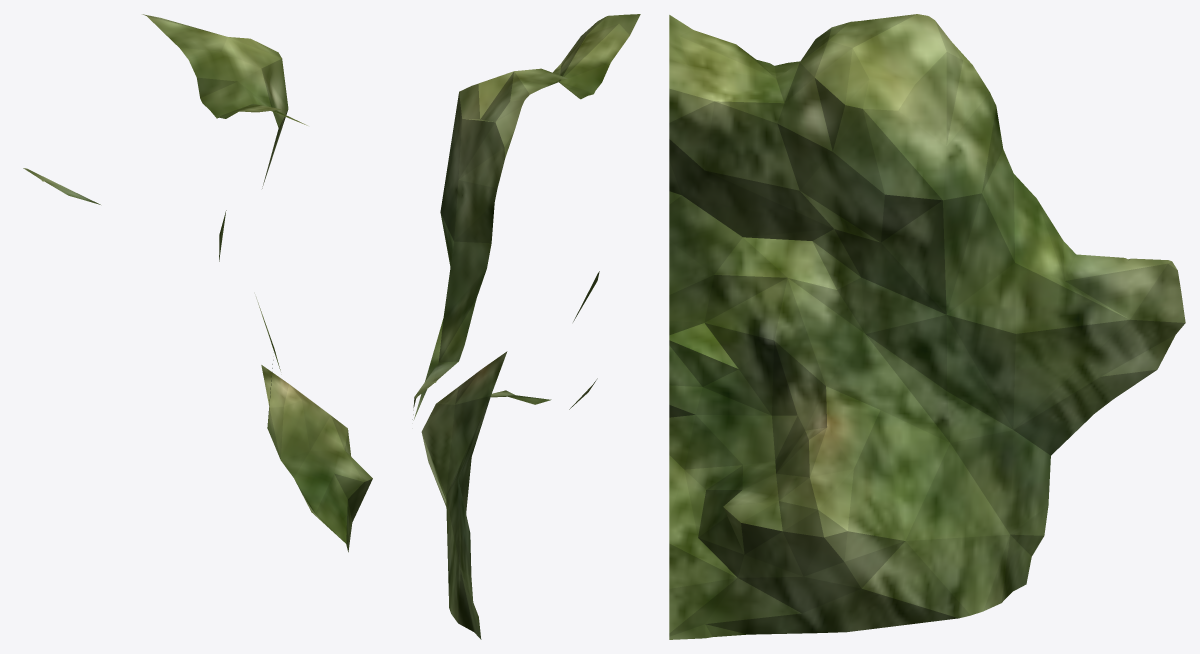
3 renders of one model, left to right at view 1: azimuth 30°, elevation 25°; view 2: azimuth 150°, elevation 25°; view 3: azimuth 270°, elevation 25°, orthographic. The views are drawn at different scales.
Bounding box in the file's own units: 0.4155 × 1.42 × 1.16.
Materials: 1 (1 with a texture image).
